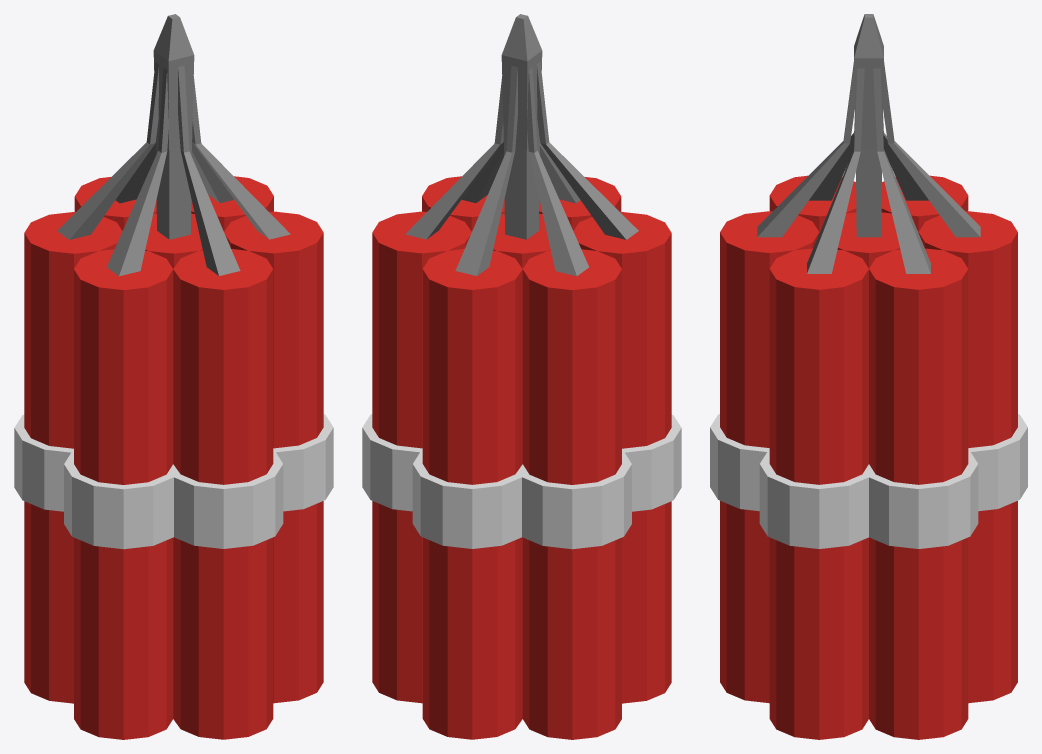
Rendered from Dynamite.fbx.
3 views of the same model, side by side, from view 1: azimuth 30°, elevation 25°; view 2: azimuth 150°, elevation 25°; view 3: azimuth 270°, elevation 25° (orthographic).
Parts seen in each view (by area): view 1: Dynamite; view 2: Dynamite; view 3: Dynamite.
Boxes of the visible parts, x1,y1,x2,y2 form: Dynamite: [14, 14, 333, 739]; Dynamite: [362, 14, 681, 739]; Dynamite: [710, 14, 1027, 739].
Bounding box in the file's own units: 23.6 × 59.22 × 25.6.
